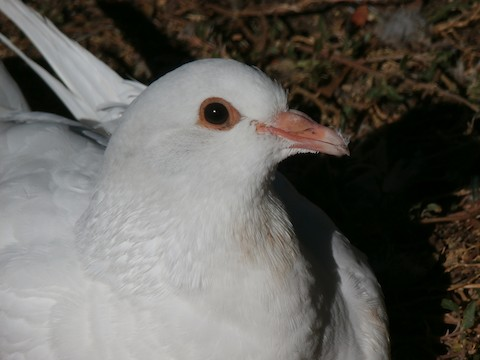pigeon: (20, 53, 386, 353)
